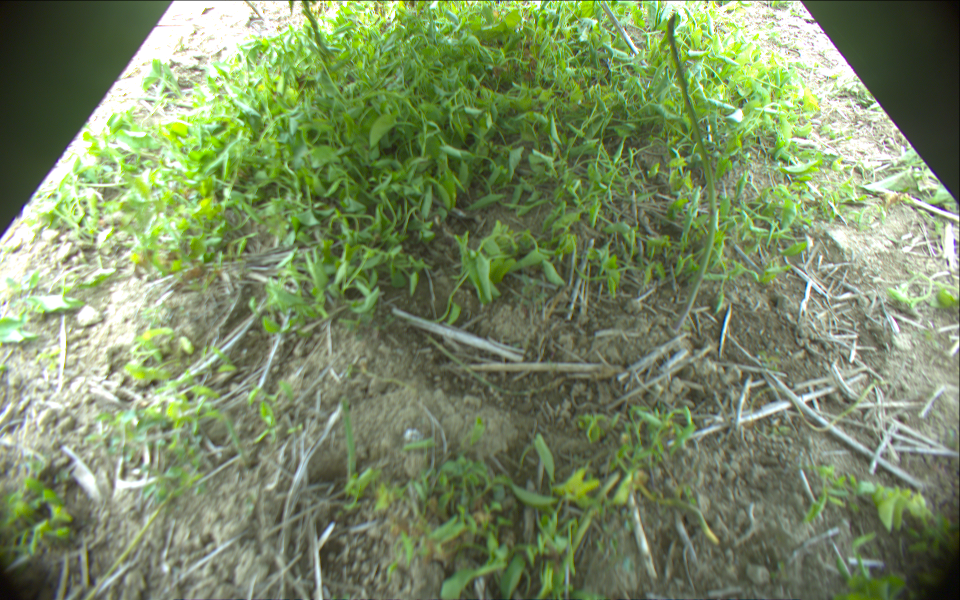aspa: (668, 13, 717, 334), (598, 1, 641, 61), (341, 397, 361, 494)
